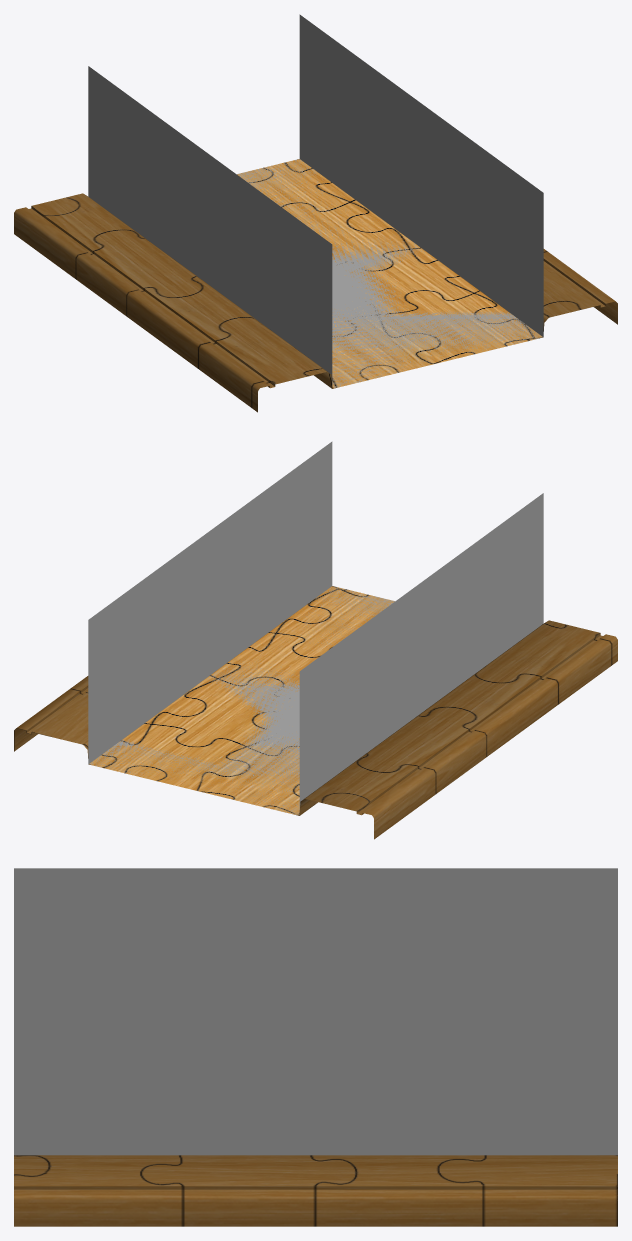
The model's file is Road_Straight.fbx.
3 views of the same model, one above another, from view 1: azimuth 30°, elevation 25°; view 2: azimuth 150°, elevation 25°; view 3: azimuth 270°, elevation 25° (orthographic). The views are drawn at different scales.
Parts seen in each view (by area): view 1: Road_Straight_Col, Road_Straight; view 2: Road_Straight_Col, Road_Straight; view 3: Road_Straight_Col, Road_Straight.
Boxes of the visible parts, left/top/right/bottom form: Road_Straight_Col: left=88, top=14, right=543, bottom=388; Road_Straight: left=14, top=159, right=617, bottom=412; Road_Straight_Col: left=88, top=441, right=543, bottom=815; Road_Straight: left=14, top=586, right=617, bottom=839; Road_Straight_Col: left=14, top=868, right=617, bottom=1155; Road_Straight: left=14, top=1155, right=617, bottom=1226.
Size of the model in its own units: 2726 by 1086 by 3200.
